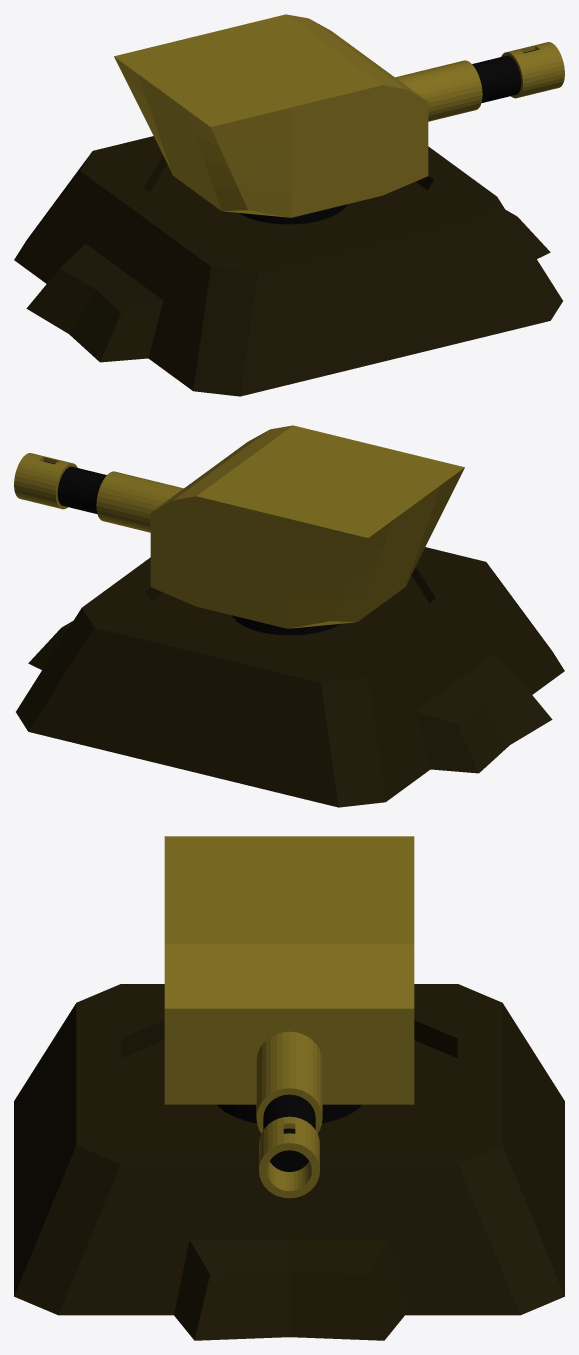
The model's file is WIEZA.fbx.
3 views of the same model, one above another, from view 1: azimuth 30°, elevation 25°; view 2: azimuth 150°, elevation 25°; view 3: azimuth 270°, elevation 25° (orthographic). The views are drawn at different scales.
Parts seen in each view (by area): view 1: base, head; view 2: base, head; view 3: base, head.
Boxes of the visible parts, x1,y1,x2,y2 form: base: (14, 136, 562, 396); head: (114, 14, 564, 217); base: (16, 547, 564, 807); head: (14, 425, 464, 628); base: (14, 984, 564, 1340); head: (164, 836, 414, 1198).
Size of the model in its own units: 265 by 113 by 200.
